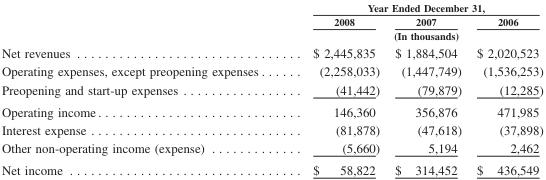table: (0, 1, 542, 176)
table column: (0, 1, 288, 176), (288, 1, 386, 176), (386, 1, 468, 176), (468, 1, 542, 176)
table column header: (0, 1, 542, 43)
table row: (0, 80, 542, 100), (0, 100, 542, 120), (0, 138, 542, 158), (0, 43, 542, 62), (0, 62, 542, 80), (0, 120, 542, 138), (0, 158, 542, 176), (0, 28, 542, 43), (0, 14, 542, 28), (0, 1, 542, 14)
table spanning cell: (288, 28, 542, 43), (288, 1, 542, 14)
